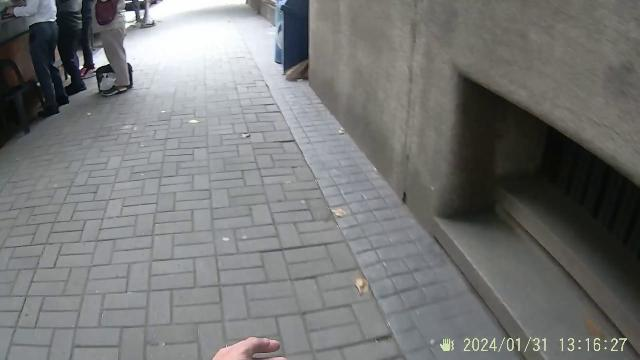garbage: (264, 0, 310, 84)
